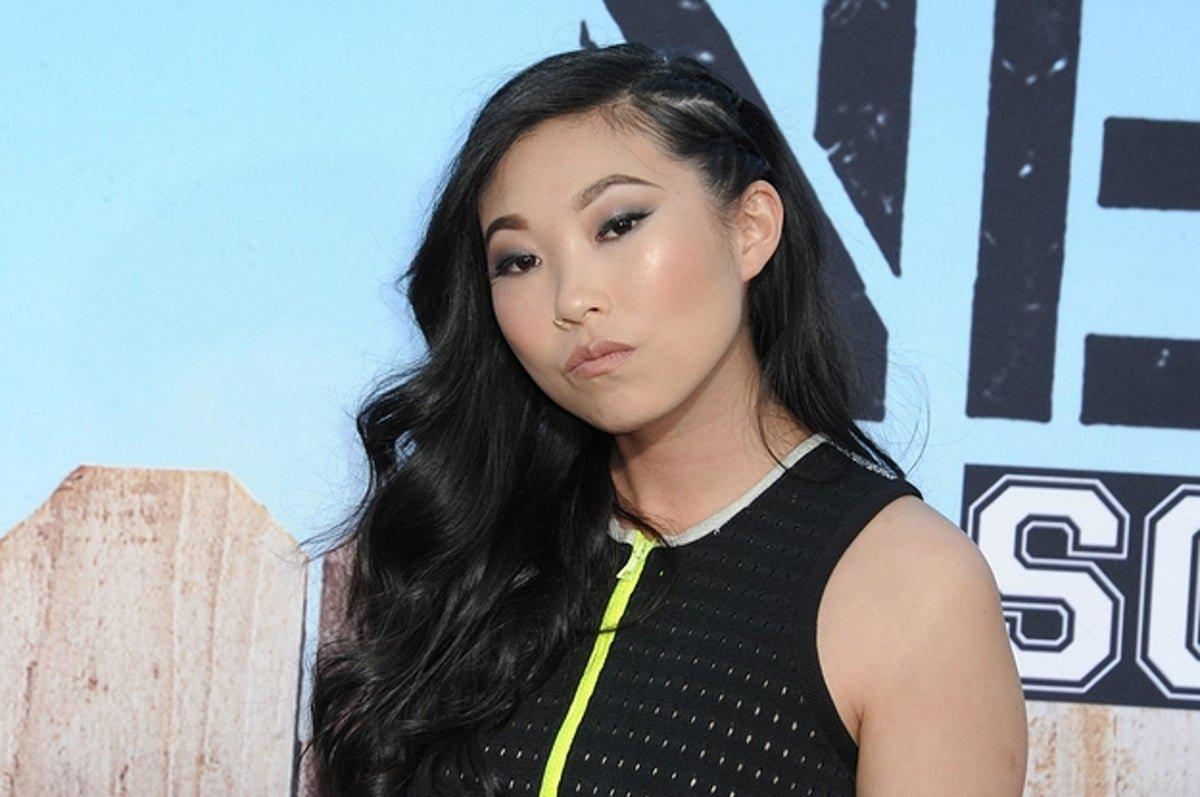Sober: (477, 137, 712, 420)
